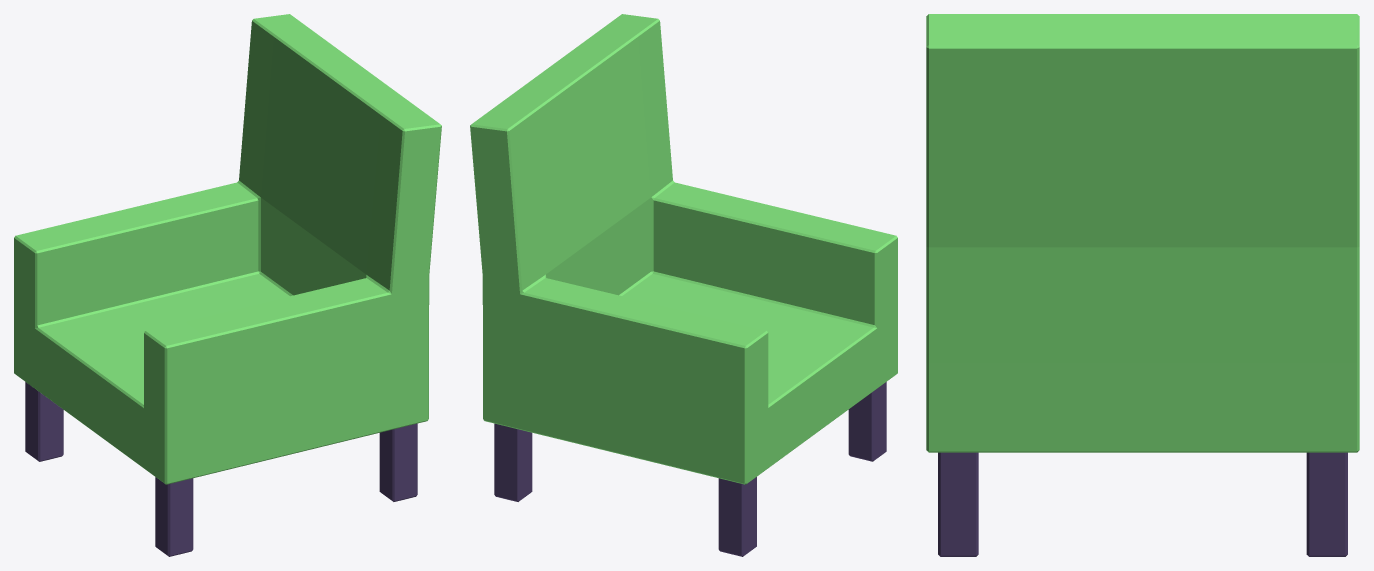
Rendered from Couch.fbx.
The picture shows the model from 3 angles, left to right: view 1: azimuth 30°, elevation 25°; view 2: azimuth 150°, elevation 25°; view 3: azimuth 270°, elevation 25°; orthographic projection. The views are drawn at different scales.
Visible parts, largest first — view 1: Couch; view 2: Couch; view 3: Couch.
Boxes of the visible parts, bbox=[...] form: Couch: bbox=[14, 14, 441, 556]; Couch: bbox=[470, 14, 897, 556]; Couch: bbox=[926, 14, 1359, 556].
Bounding box in the file's own units: 0.871 × 1.12 × 0.8297.
